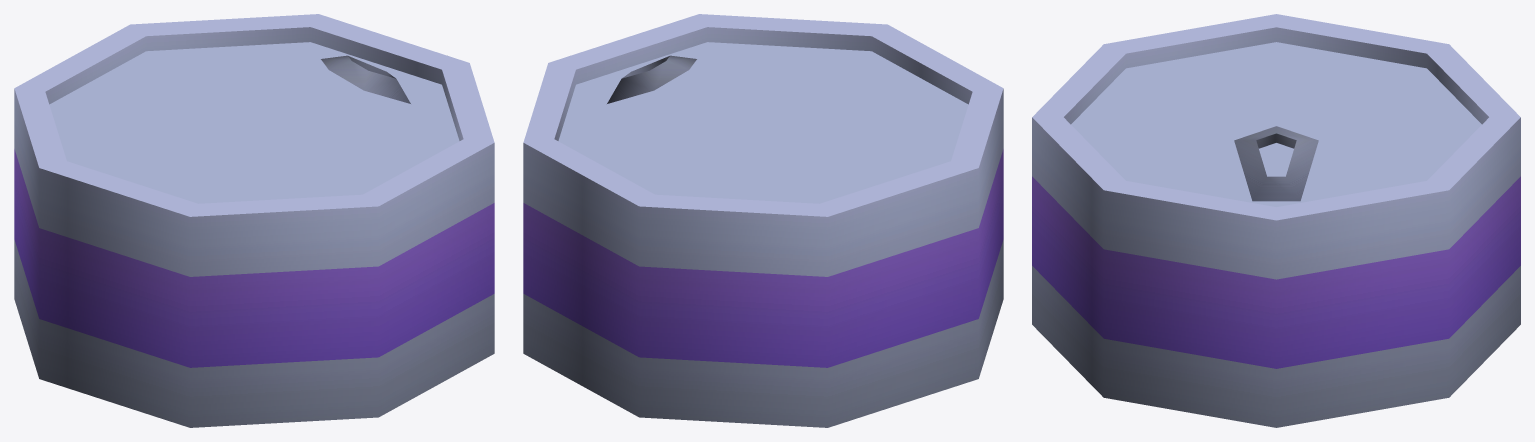
File: kenney-food-can-small.glb
The picture shows the model from 3 angles, left to right: view 1: azimuth 30°, elevation 25°; view 2: azimuth 150°, elevation 25°; view 3: azimuth 270°, elevation 25°; orthographic projection.
Visible parts, largest first — view 1: can-small, Group; view 2: can-small, Group; view 3: can-small, Group.
Part boxes in pixels (left/top/right/bottom): can-small: left=14, top=14, right=494, bottom=427; Group: left=321, top=55, right=410, bottom=103; can-small: left=523, top=14, right=1003, bottom=427; Group: left=607, top=55, right=696, bottom=103; can-small: left=1032, top=14, right=1520, bottom=427; Group: left=1234, top=126, right=1318, bottom=201.
Bounding box in the file's own units: 0.3 × 0.1611 × 0.3.
1 material, 1 textured.
